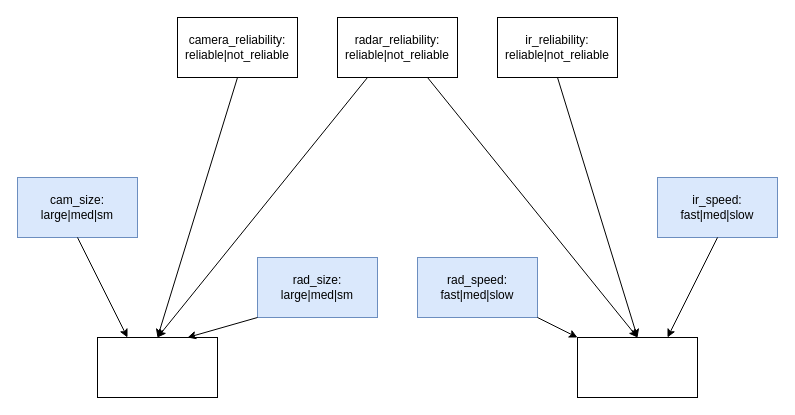
This 795x415 diagram has some shape labels left out. Here are the shapes that lost their labels. From the top down, the centre of each, then its label:
the point at 157,367: size: large|med|small
the point at 637,367: speed: fast|med|slow
